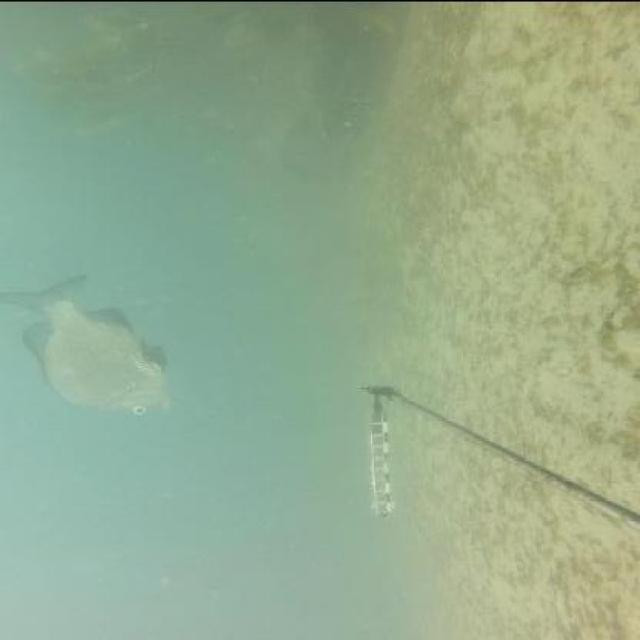acanthopagrus_palmaris: (2, 269, 190, 417)
